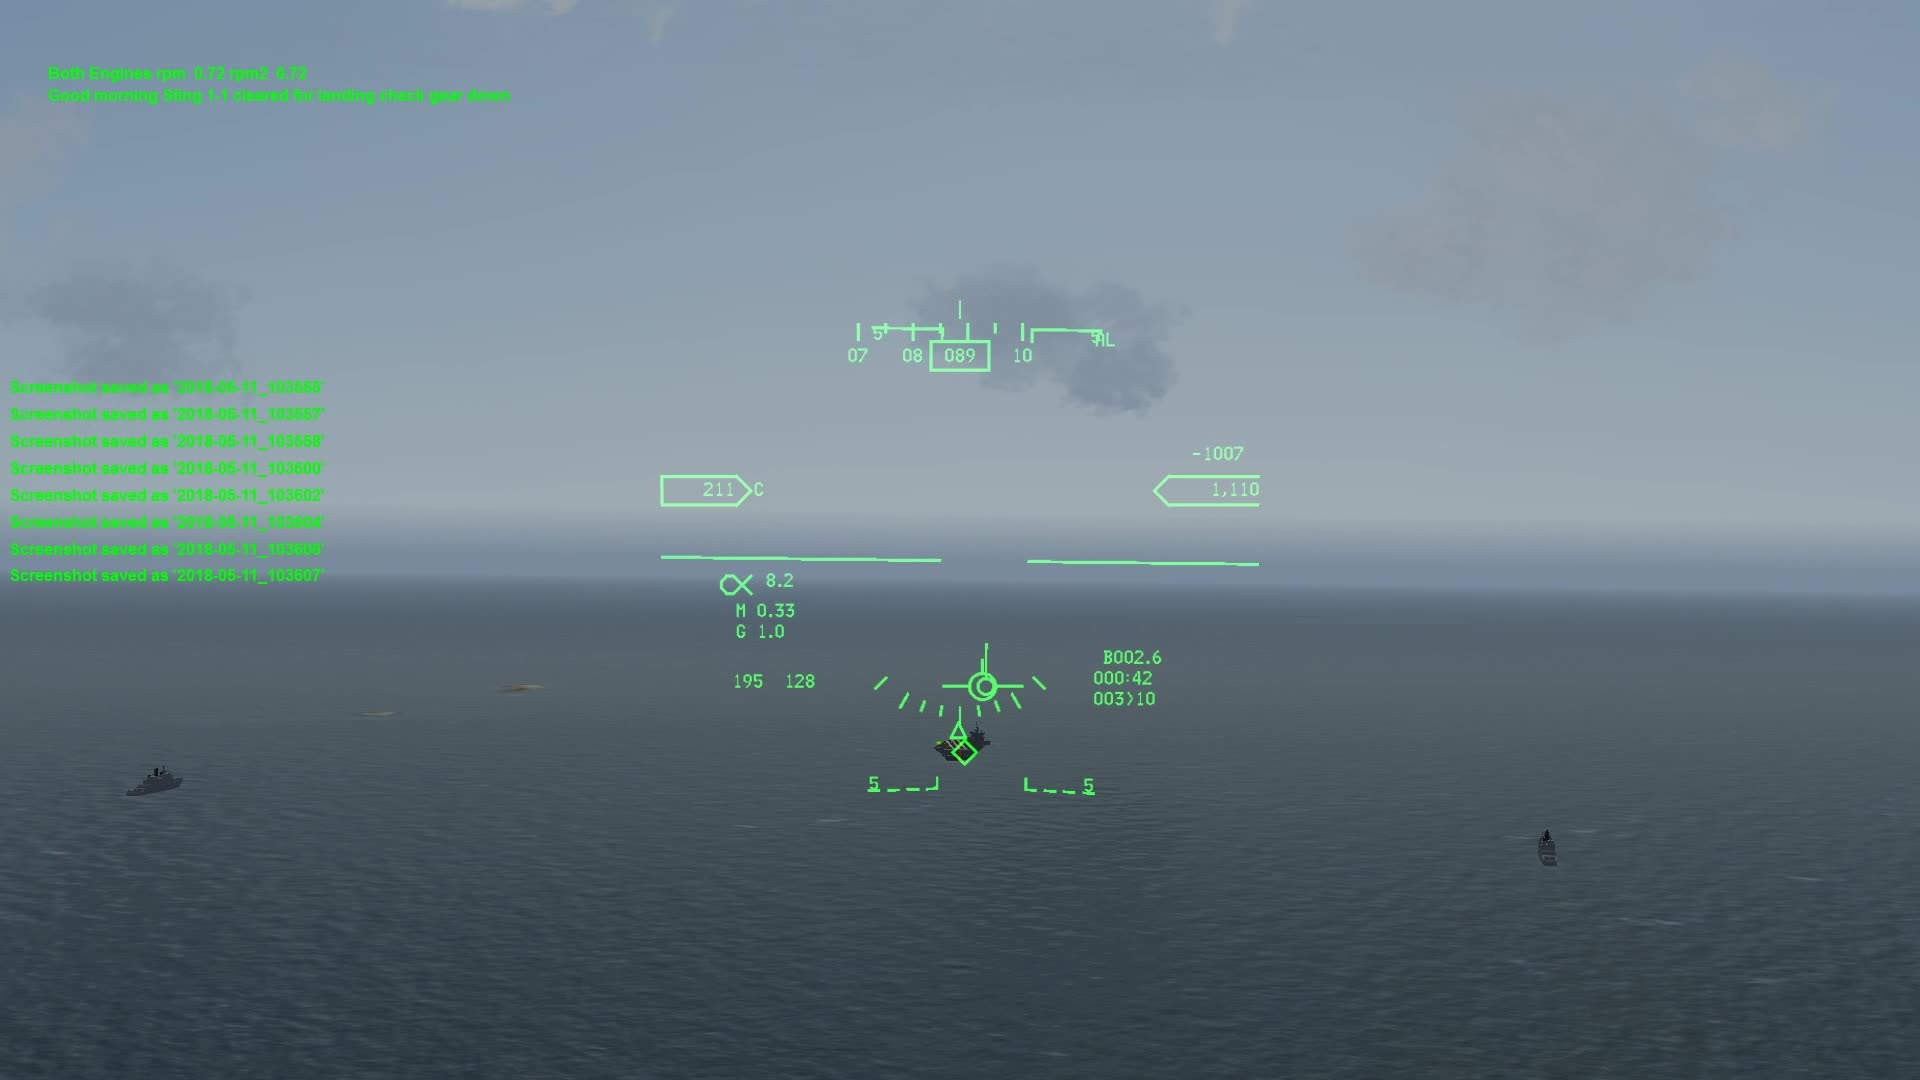speed vector: (920, 646, 1033, 702)
